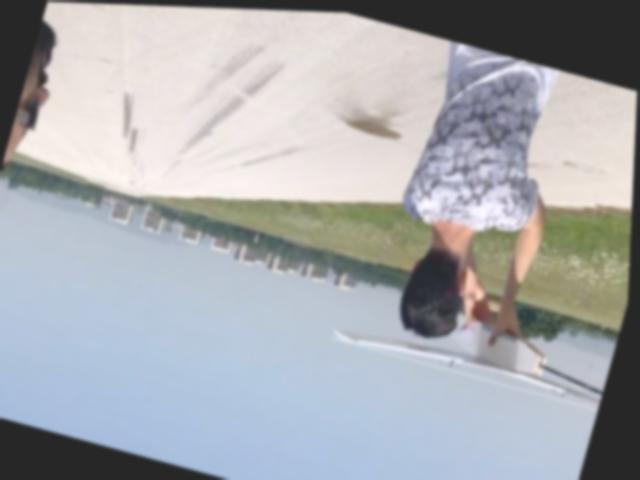insansiz-hava-araci: (331, 276, 619, 406)
